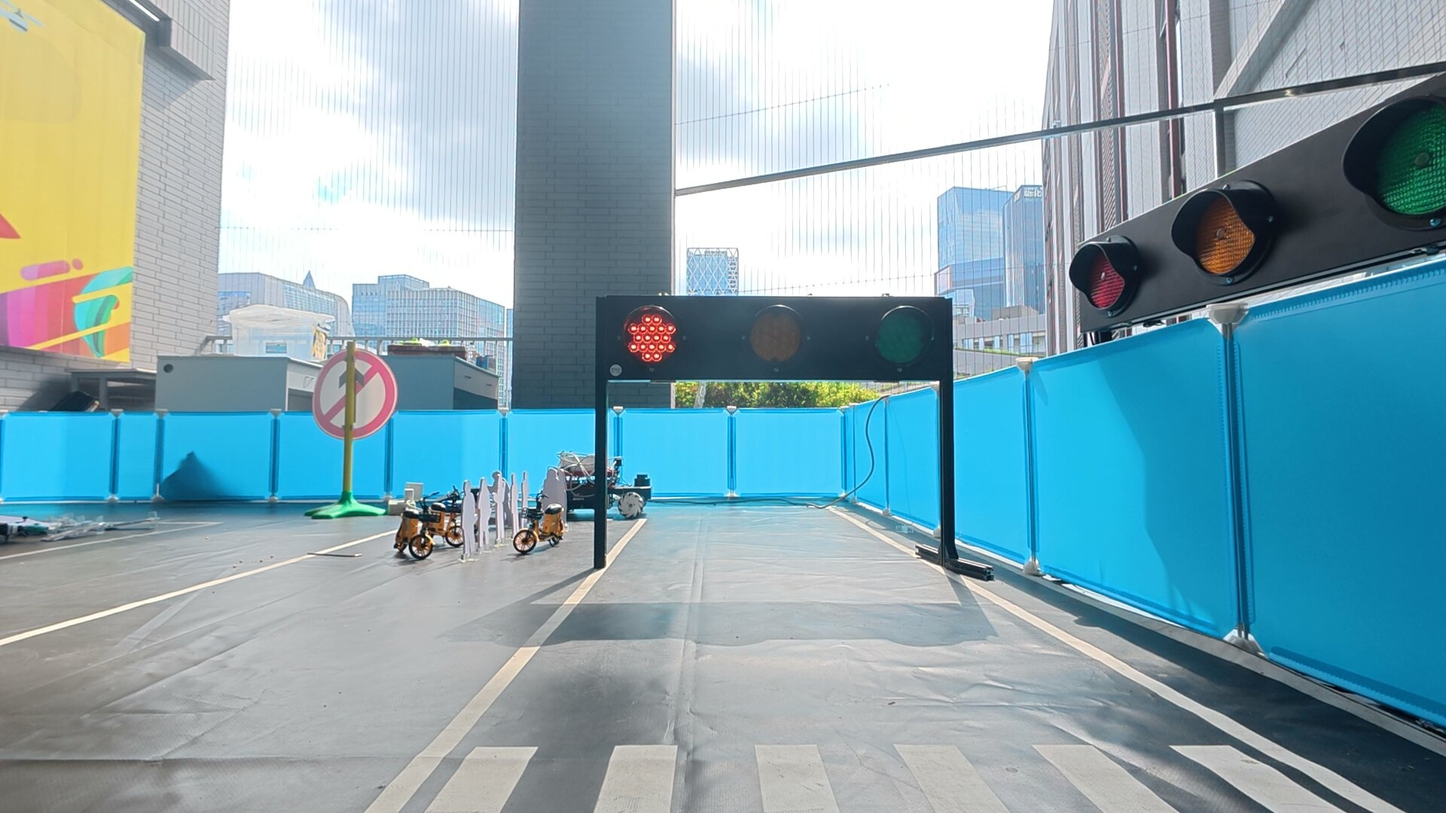stop: (624, 308, 682, 372)
